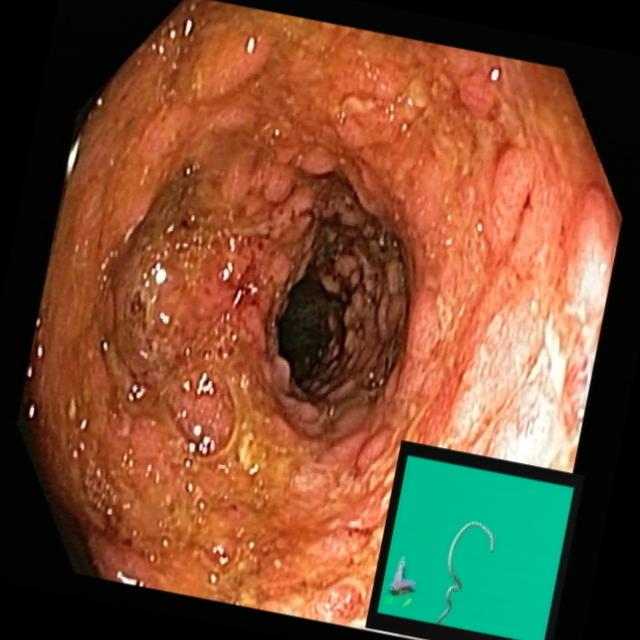ulcerative-colities: (19, 0, 630, 632)
